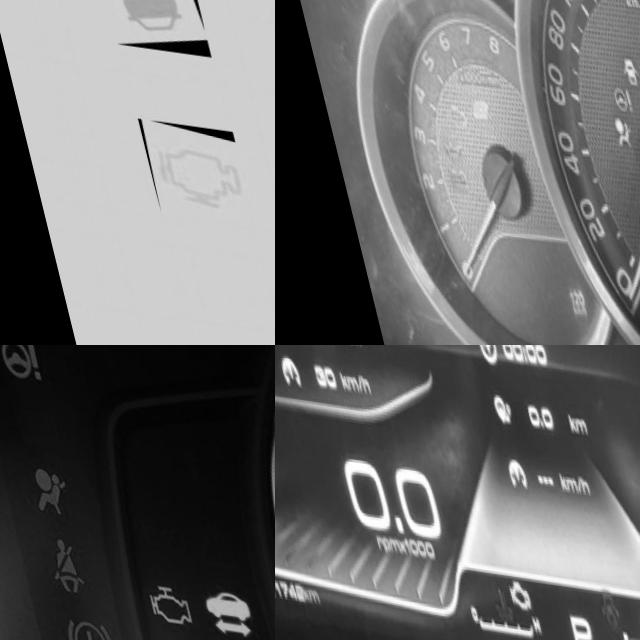Electronic Power Steering: (0, 345, 41, 376)
High Engine Coolant Temperature: (462, 569, 490, 619), (631, 299, 640, 341)
Seat Belt: (29, 525, 71, 589)
